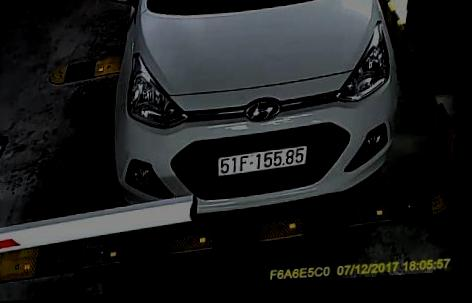License_Plate: (215, 140, 310, 181)
